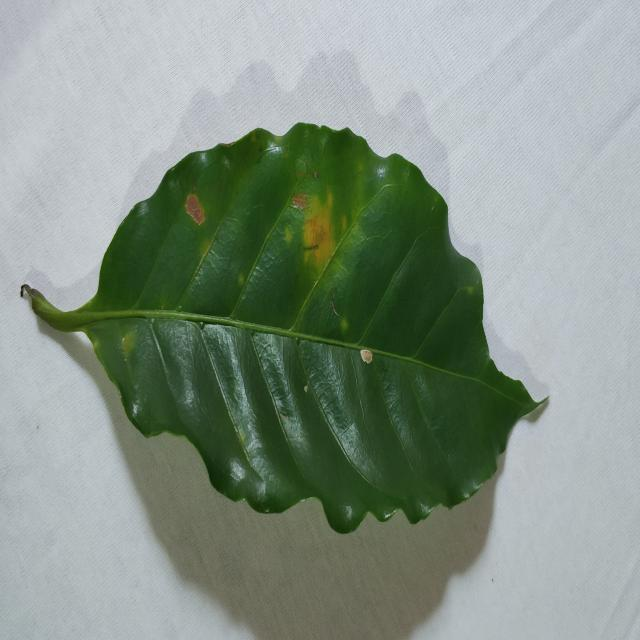Enfermedad-Roya: (20, 123, 549, 536)
